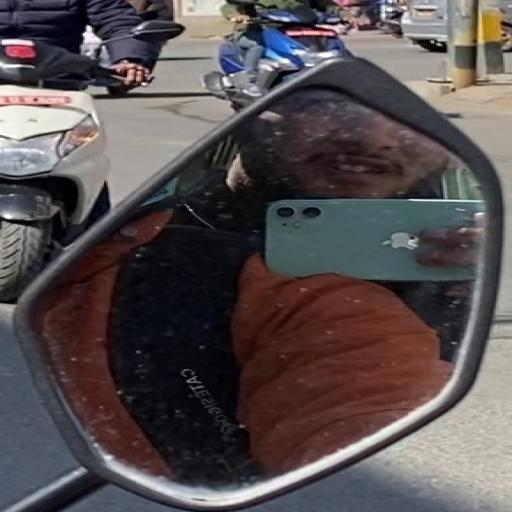license_plate: (0, 93, 74, 106), (286, 29, 338, 38)
